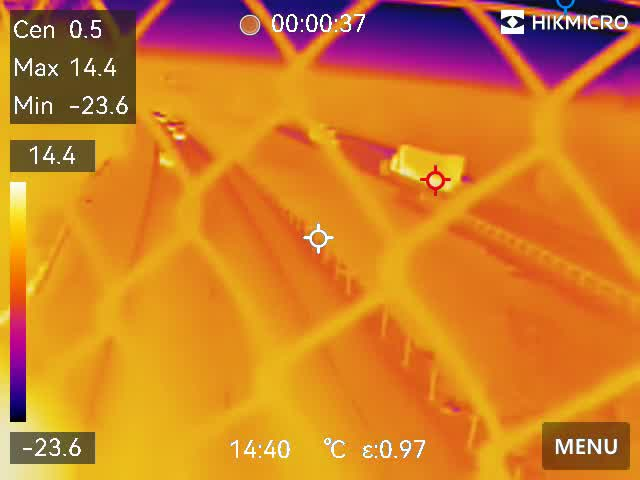heavyTruck: (384, 144, 466, 191)
vehicle: (172, 129, 191, 140)
